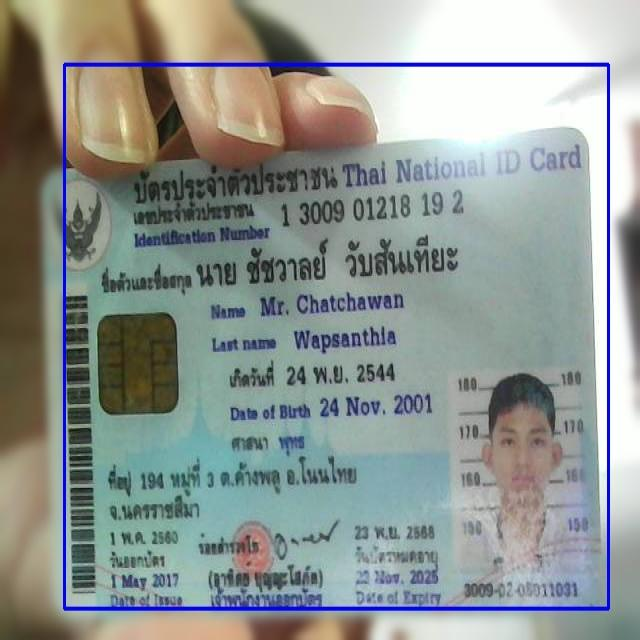Address_th: (104, 452, 376, 523)
Date_of_Birth: (316, 387, 438, 421)
Date_of_Expiry: (352, 563, 443, 589)
Date_of_Issue: (105, 569, 186, 594)
First_Name: (258, 288, 405, 318)
ID_Number: (275, 188, 466, 230)
Image: (449, 368, 589, 580)
Last_Name: (291, 322, 401, 356)
Thai_Name: (193, 234, 470, 288)
